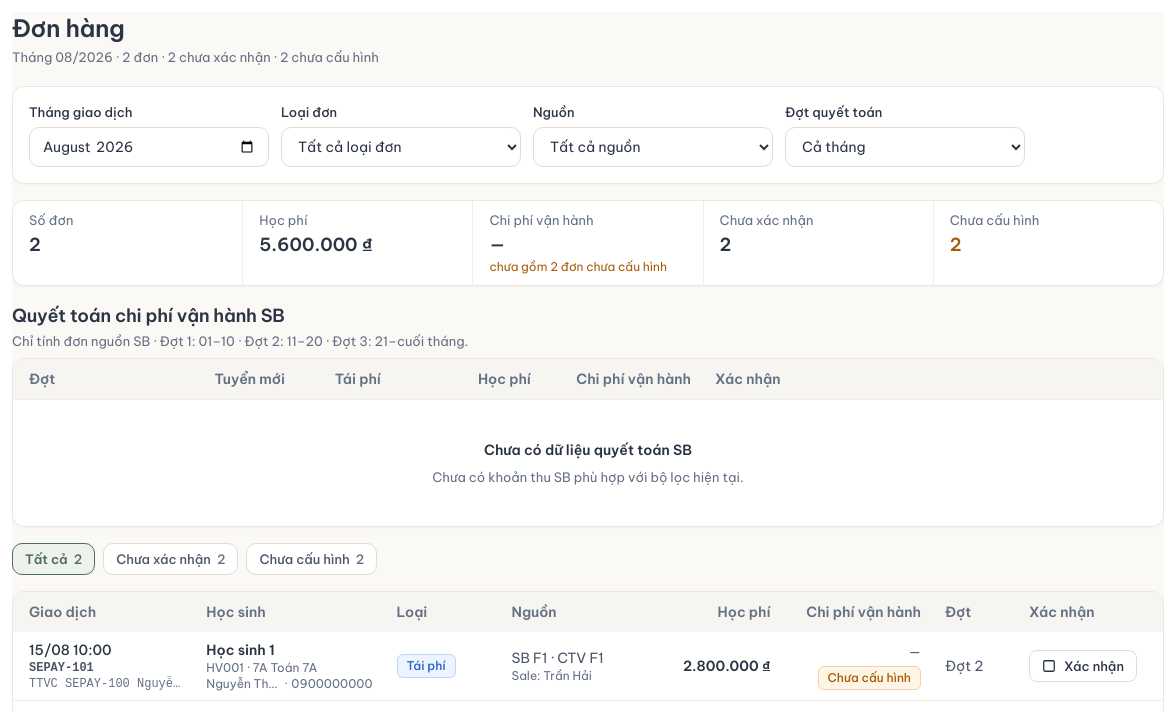
Test: Finance Orders list (step 14c) › drops a row kept under a chip once the chip changes
This screenshot has width=1164, height=711.
Click the button named "Chưa xác nhận2".
click(171, 559)  # box [103,543,238,575]
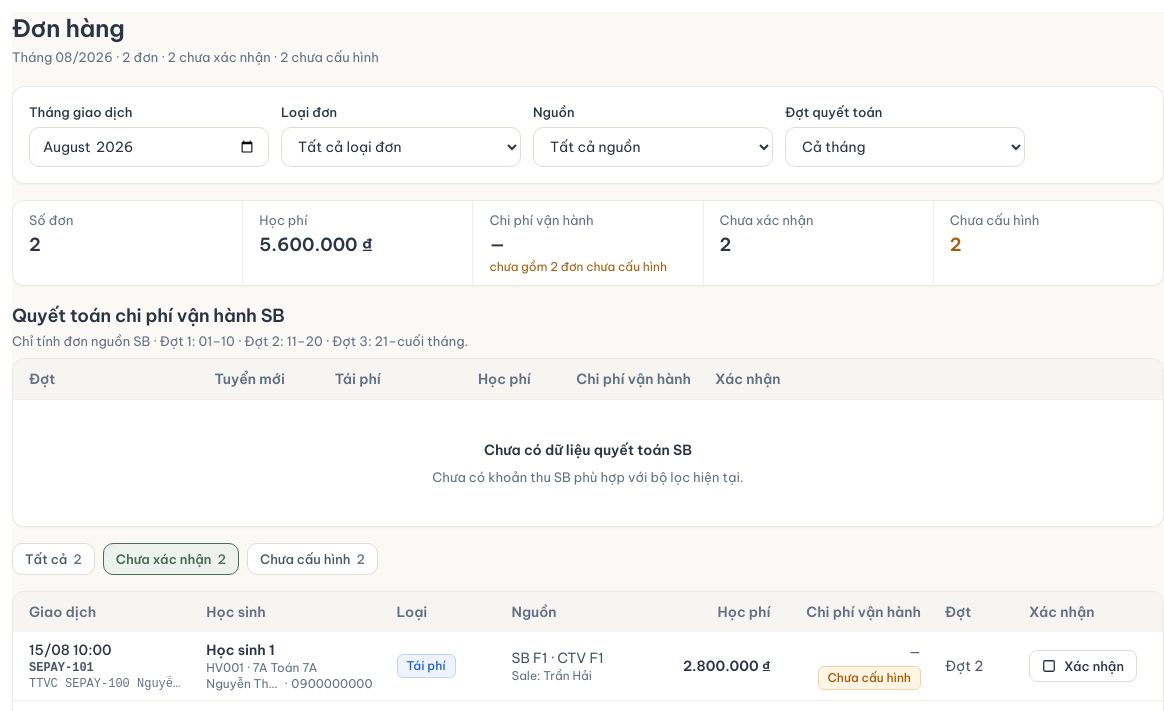
Click the button with aria-label "Xác nhận đơn SEPAY-101".
click(1083, 666)  # box [1029,650,1137,682]
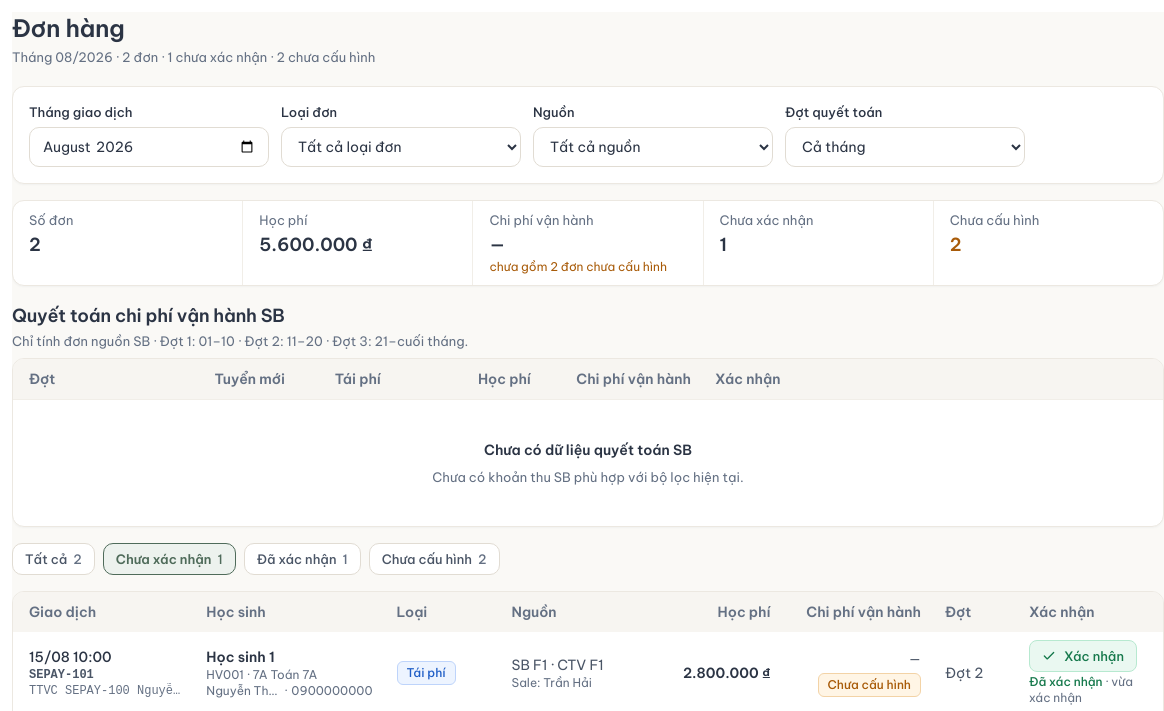
expect the number of buttons named "Bỏ xác nhận đơn SEPAY-101" is 2: met
Click the button named "Đã xác nhận1".
click(302, 559)  # box [244,543,361,575]
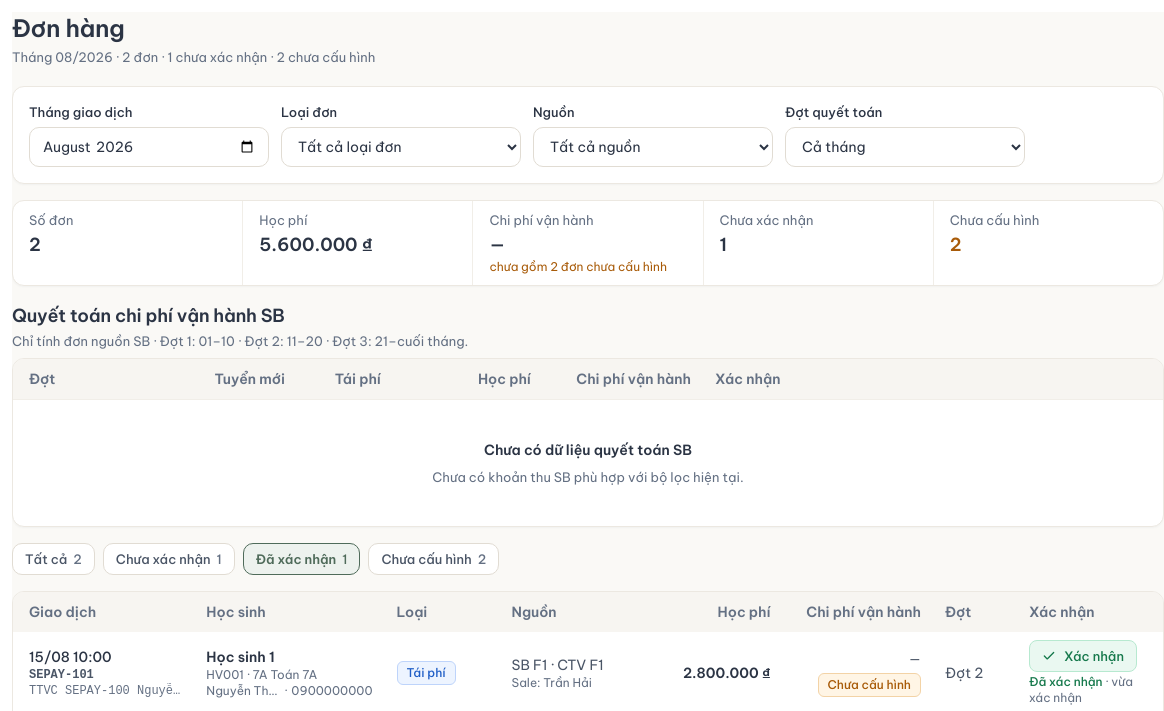
Click the button named "Chưa xác nhận1".
click(169, 559)  # box [103,543,235,575]
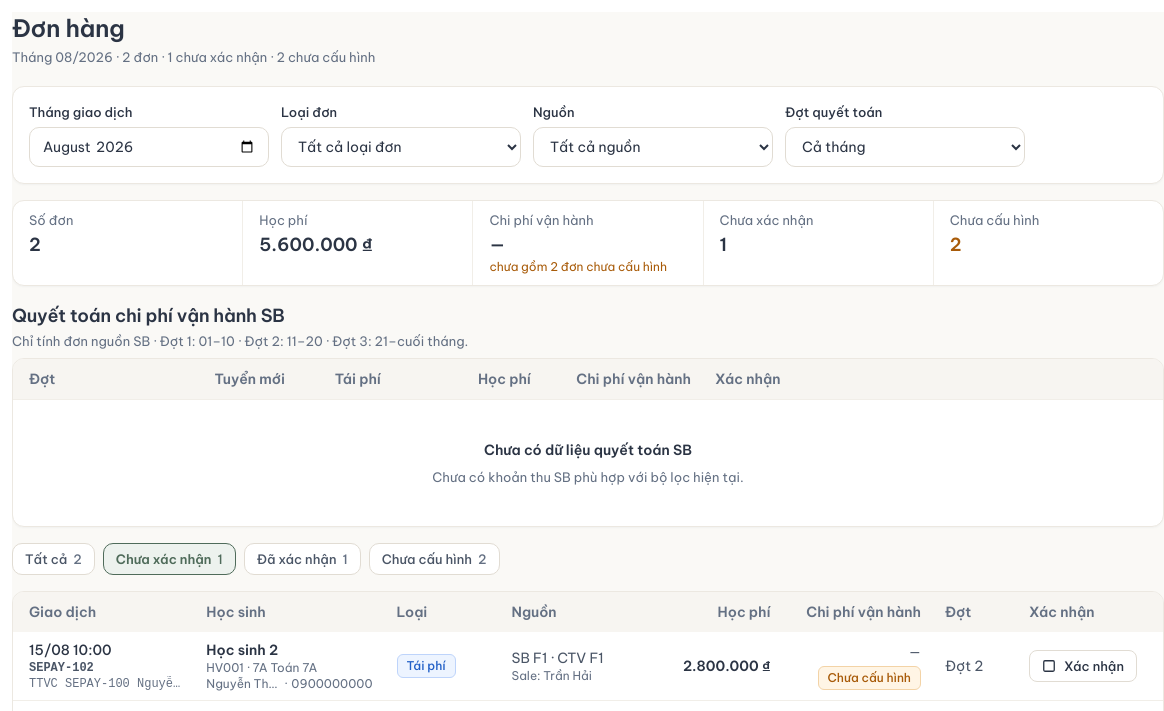
expect the row that starts with "SEPAY-102" shows "Học sinh 2": met, box [206,641,278,659]
